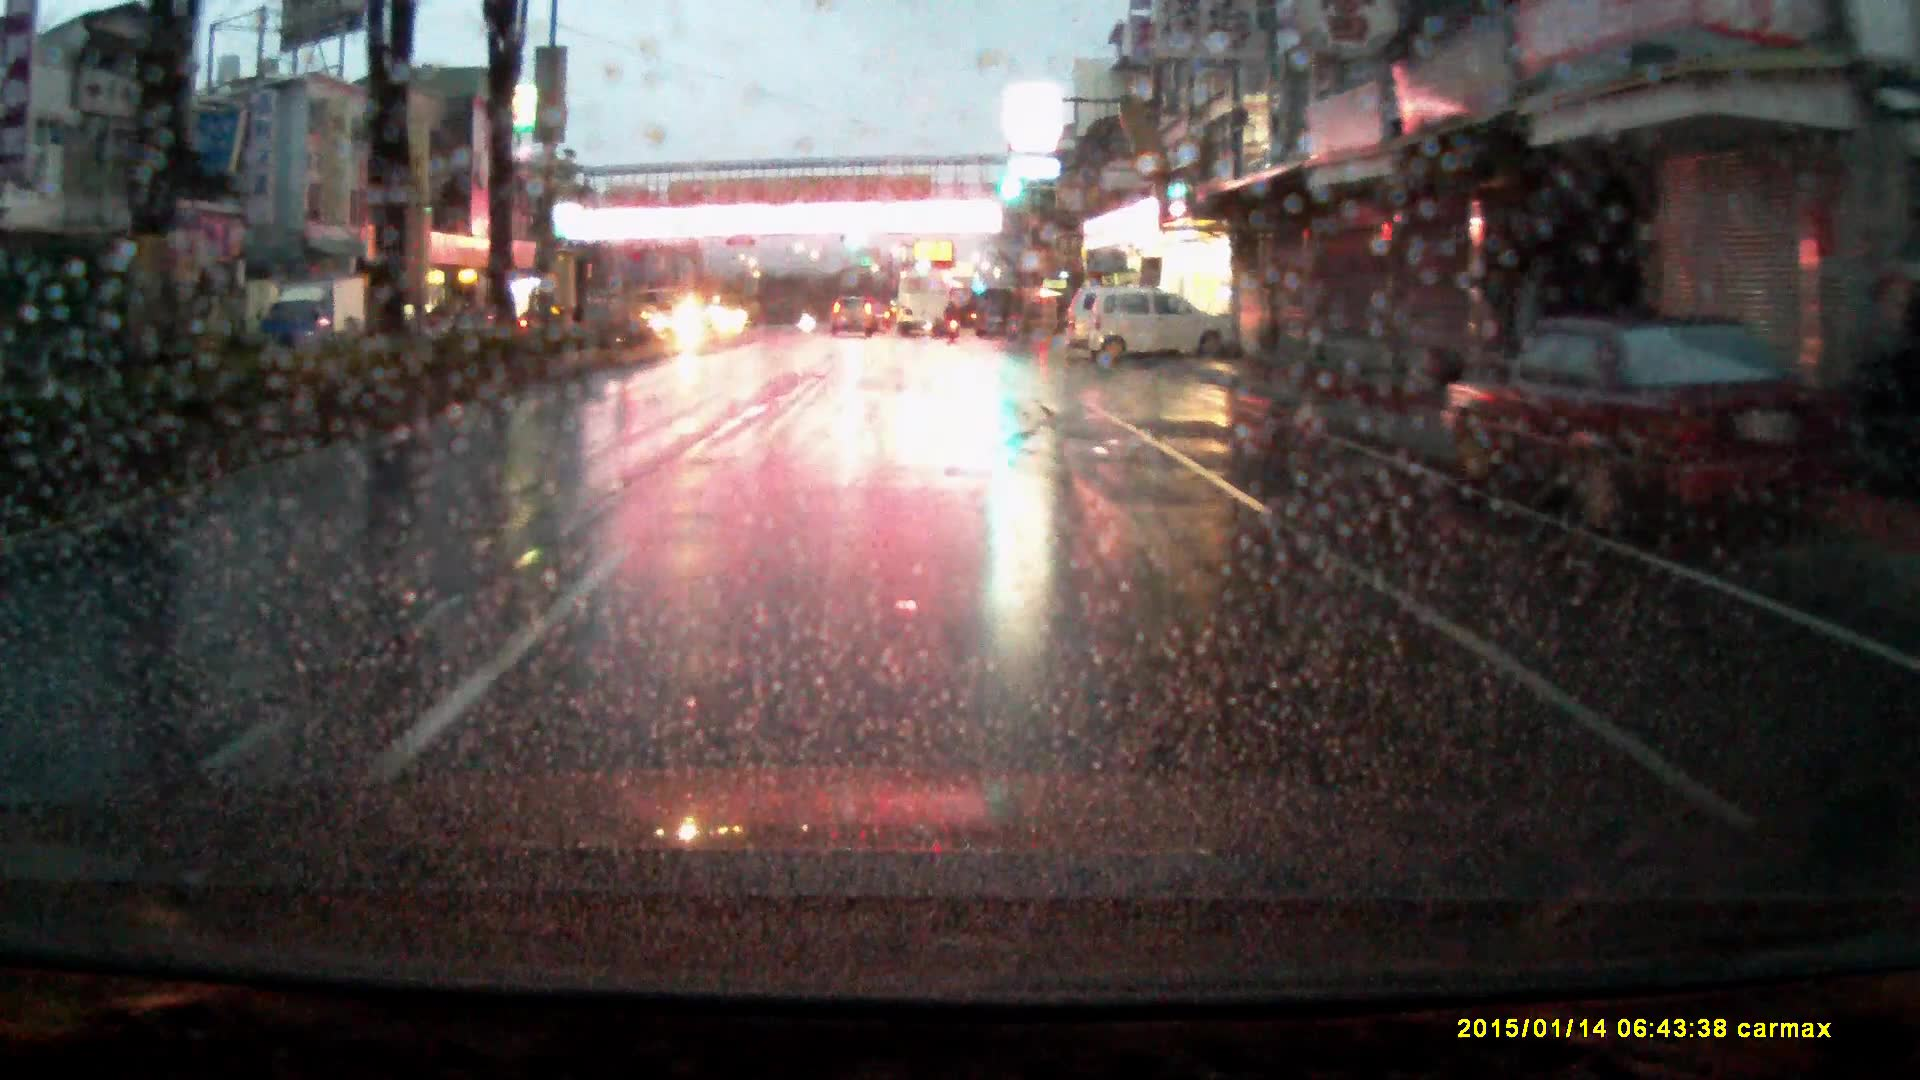rider: (943, 298, 963, 346)
vehicle: (1441, 319, 1858, 560), (1084, 293, 1242, 376), (263, 286, 362, 360), (1064, 292, 1138, 356), (897, 277, 950, 345), (831, 298, 877, 342)
